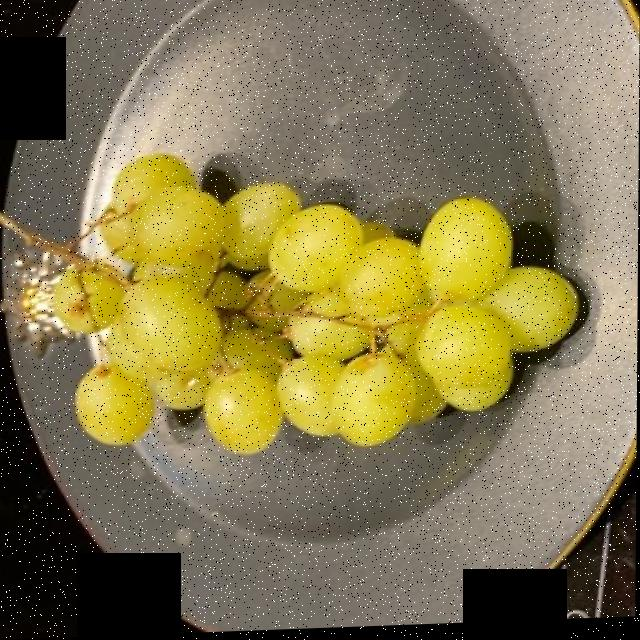grapes: (14, 166, 573, 449)
